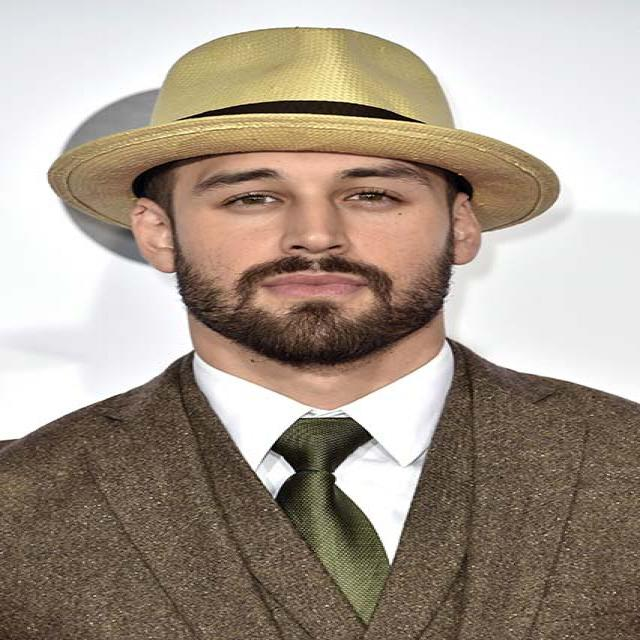hat: (62, 20, 584, 238)
